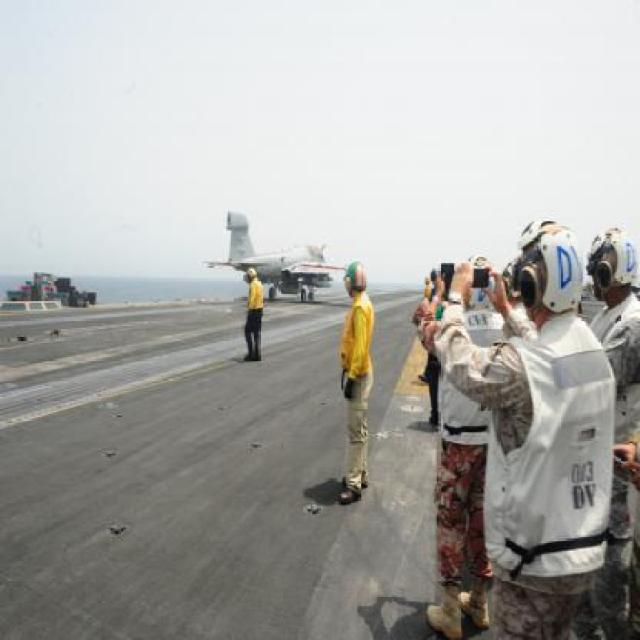Person: (414, 222, 638, 638), (338, 263, 373, 503), (243, 268, 263, 363)
